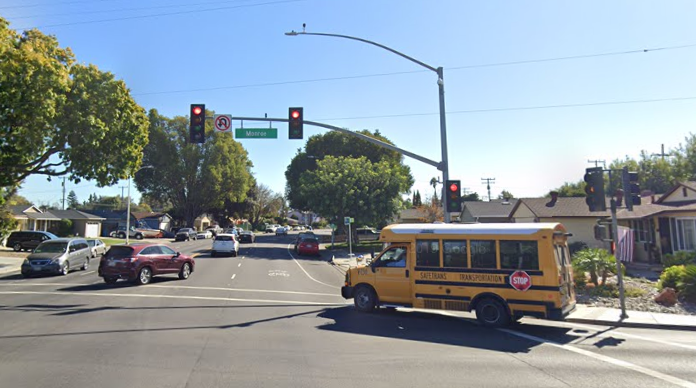red_light: (189, 103, 204, 143), (446, 179, 461, 212), (289, 107, 303, 138)
